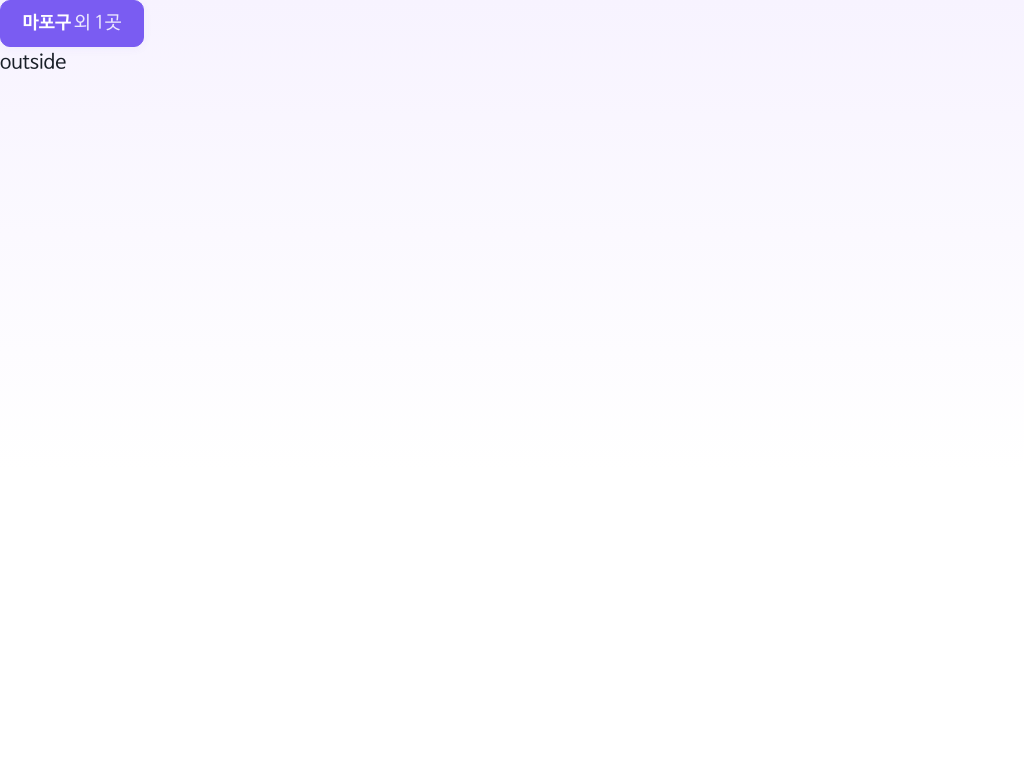
Scenario: the box (R1-4; one 거주 only since user 2026-10-20) › shows the first 거주 in the selects, no + or chip; another 시군구 replaces it and the rest stays
Later steps or results of the test are not shown.
Click the button "마포구 외 1곳".
click(72, 23)  # box [0, 0, 144, 47]
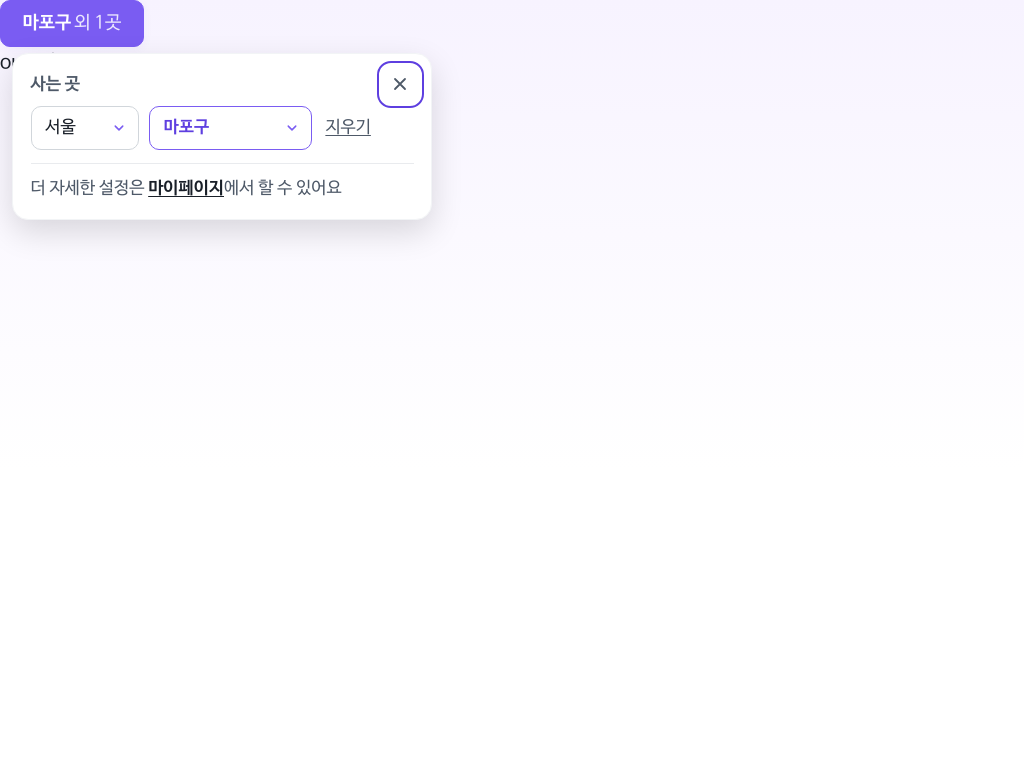
expect the dropdown named "사는 곳 시군구" shows "마포구": met, box [149, 106, 312, 150]
